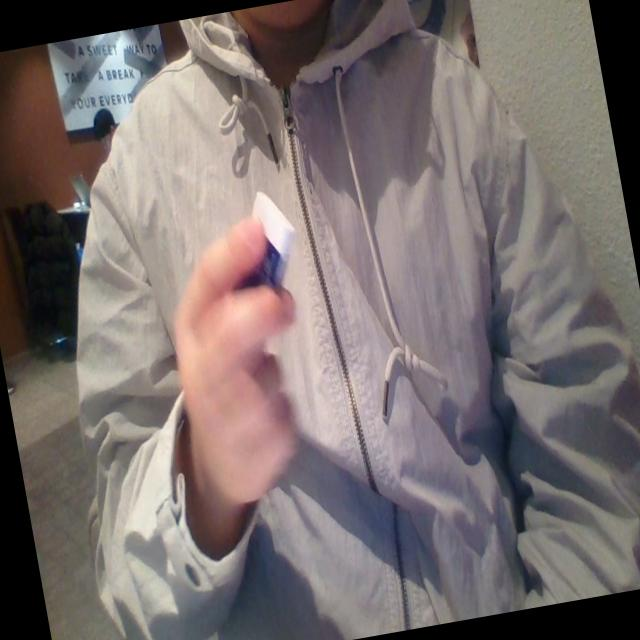eraser: (228, 188, 304, 322)
grab_eraser: (147, 185, 347, 536)
